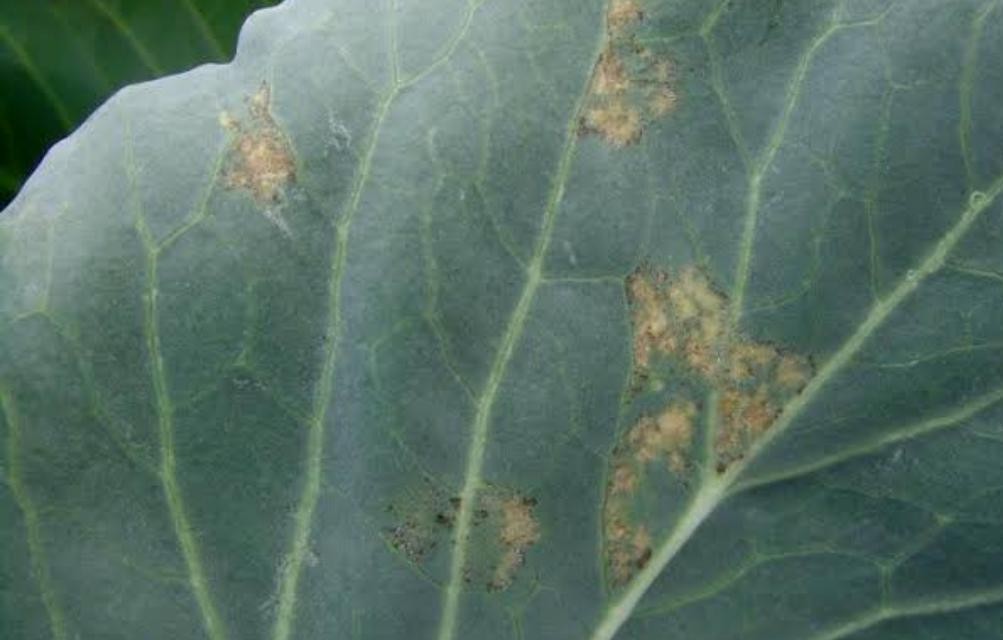Bok-Choy-Diseased: (170, 20, 1003, 640)
